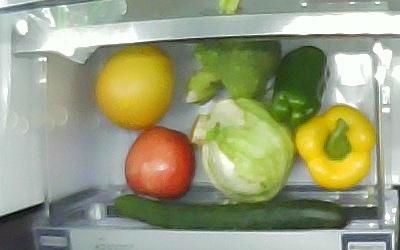apple: (125, 125, 196, 202)
broccoli: (186, 37, 281, 101)
cucumber: (112, 193, 350, 231)
grapefruit: (94, 46, 175, 131)
lettuce: (189, 97, 294, 204)
paprika: (295, 105, 376, 191), (271, 46, 330, 125)
